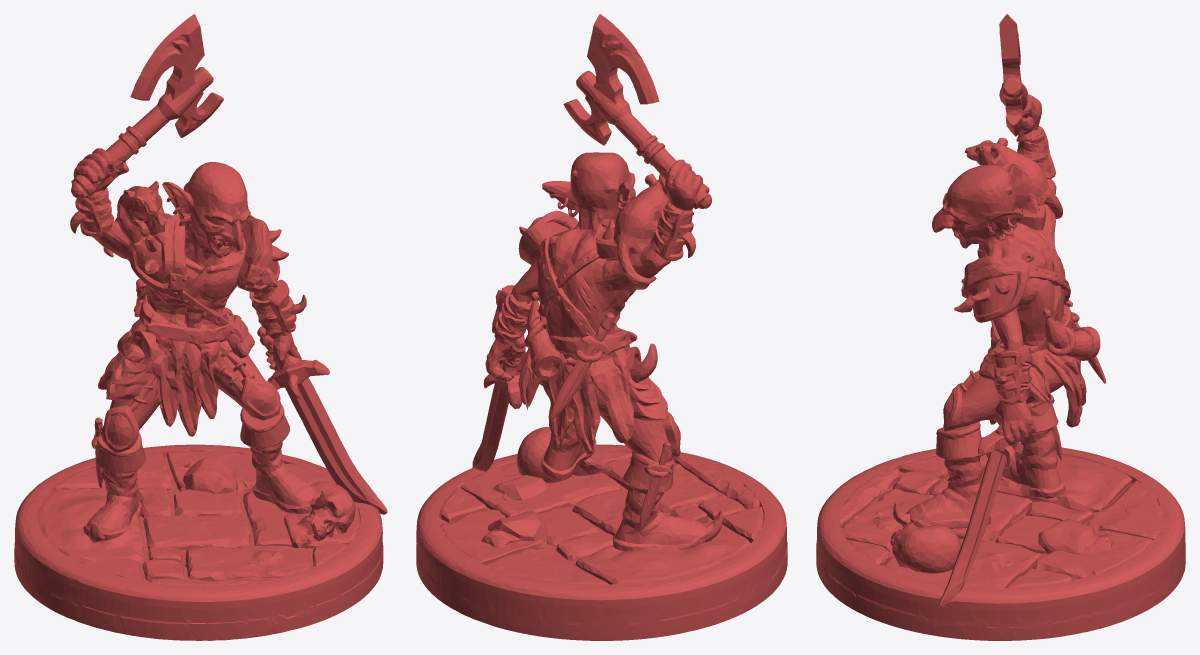
Rendered from goblin.glb.
3 renders of one model, left to right at view 1: azimuth 30°, elevation 25°; view 2: azimuth 150°, elevation 25°; view 3: azimuth 270°, elevation 25°, orthographic.
Parts seen in each view (by area): view 1: goblin; view 2: goblin; view 3: goblin.
Boxes of the visible parts, box(x1,y1,x2,y2) form: goblin: box(14, 14, 387, 640); goblin: box(416, 14, 787, 640); goblin: box(816, 14, 1185, 640).
Bounding box in the file's own units: 30.54 × 49.94 × 30.54.
